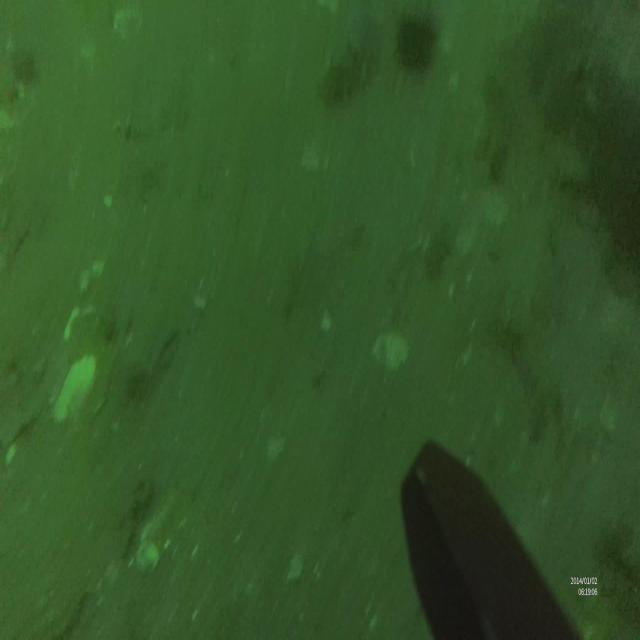echinus: (395, 4, 438, 73)
